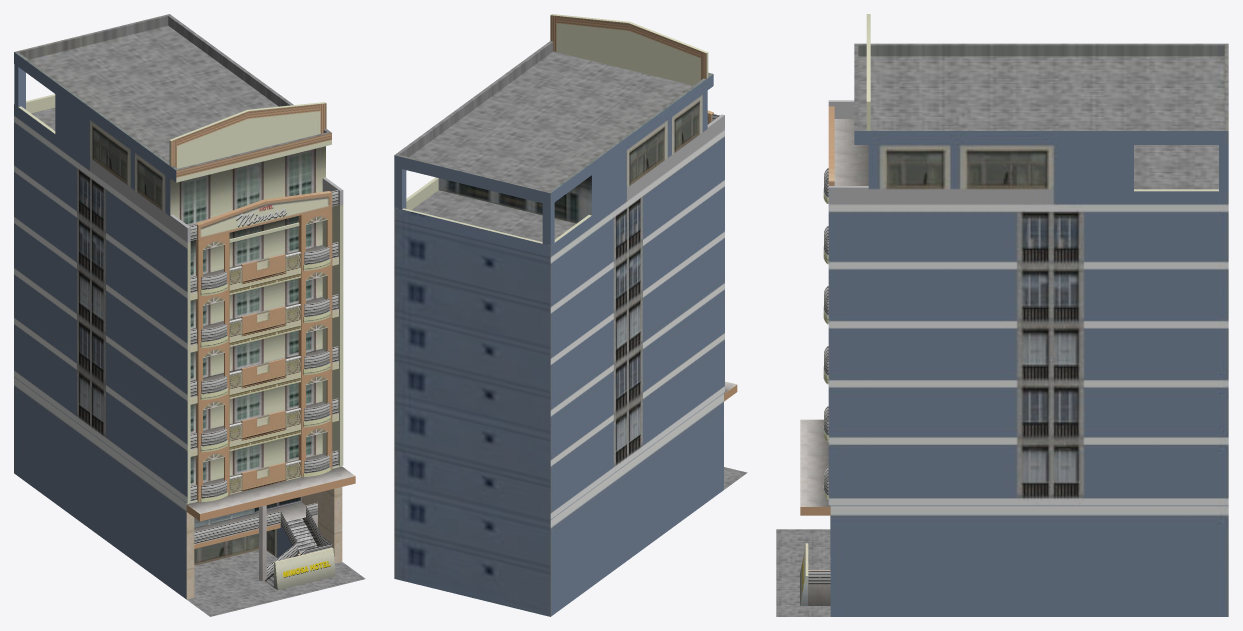
The picture shows the model from 3 angles, left to right: view 1: azimuth 30°, elevation 25°; view 2: azimuth 150°, elevation 25°; view 3: azimuth 270°, elevation 25°; orthographic projection. The views are drawn at different scales.
Parts seen in each view (by area): view 1: 5cbfe6fe4c26fc221048d61e.001; view 2: 5cbfe6fe4c26fc221048d61e.001; view 3: 5cbfe6fe4c26fc221048d61e.001.
Part boxes in pixels (<box>): 5cbfe6fe4c26fc221048d61e.001: <box>14,14,365,616</box>; 5cbfe6fe4c26fc221048d61e.001: <box>394,14,747,616</box>; 5cbfe6fe4c26fc221048d61e.001: <box>776,14,1228,616</box>.
Size of the model in its own units: 10.93 by 30.77 by 23.87.
1 material, 1 textured.
